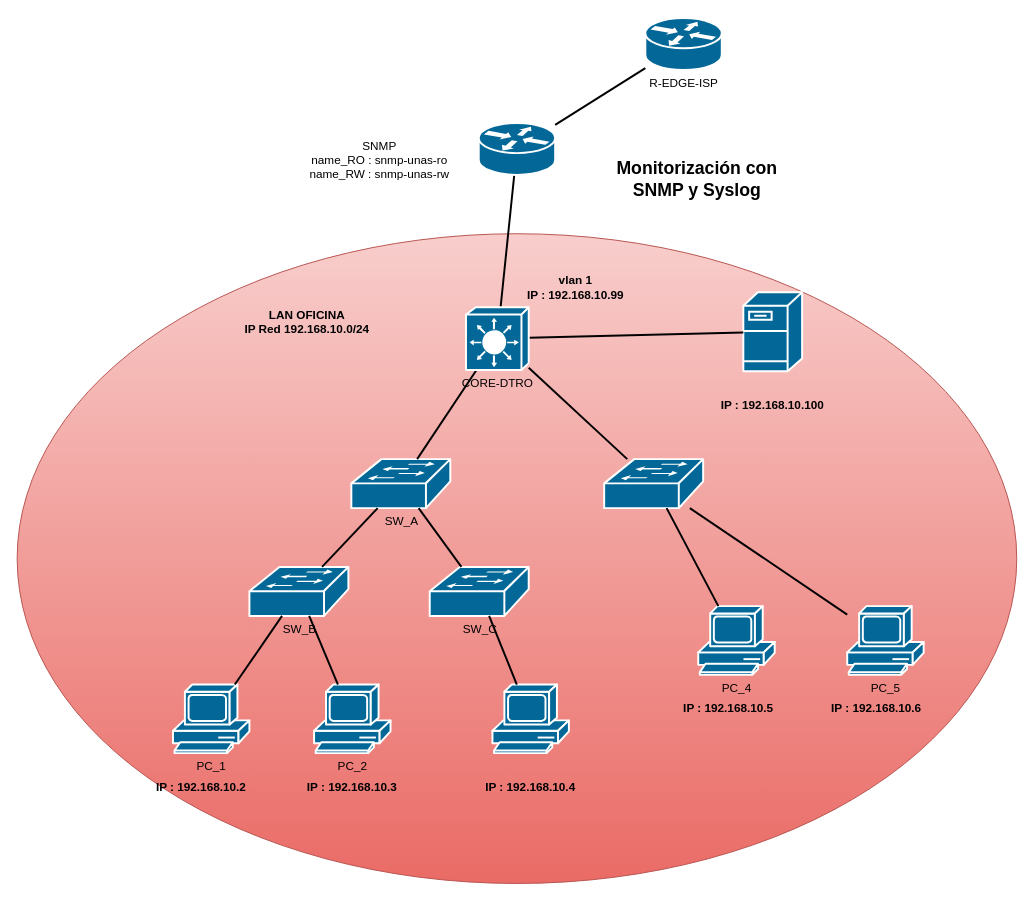
This 1034x901 diagram has some shape labels left out. Here are the shapes that lost their labels. From the top down, the box of each, then its label:
(477, 122, 556, 175): R-CORE-SNMP
(742, 291, 803, 372): Server Syslog
(603, 458, 704, 509): SW_D
(491, 683, 569, 754): PC_3
